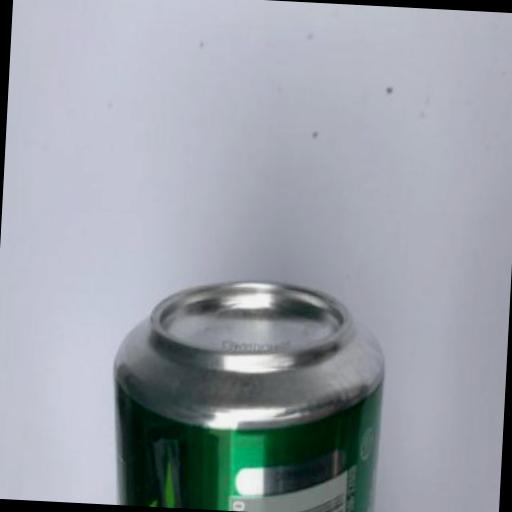metal: (105, 271, 389, 512)
